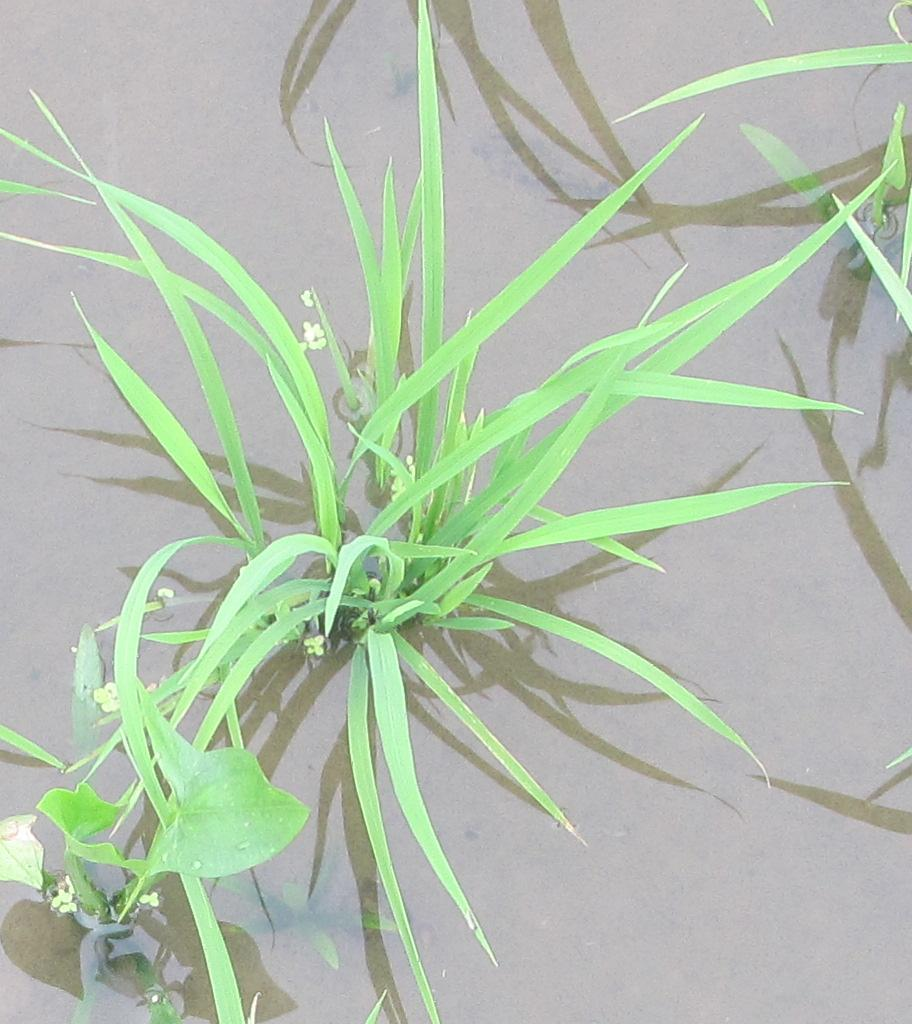Weed: (143, 728, 309, 882), (28, 783, 135, 880)
